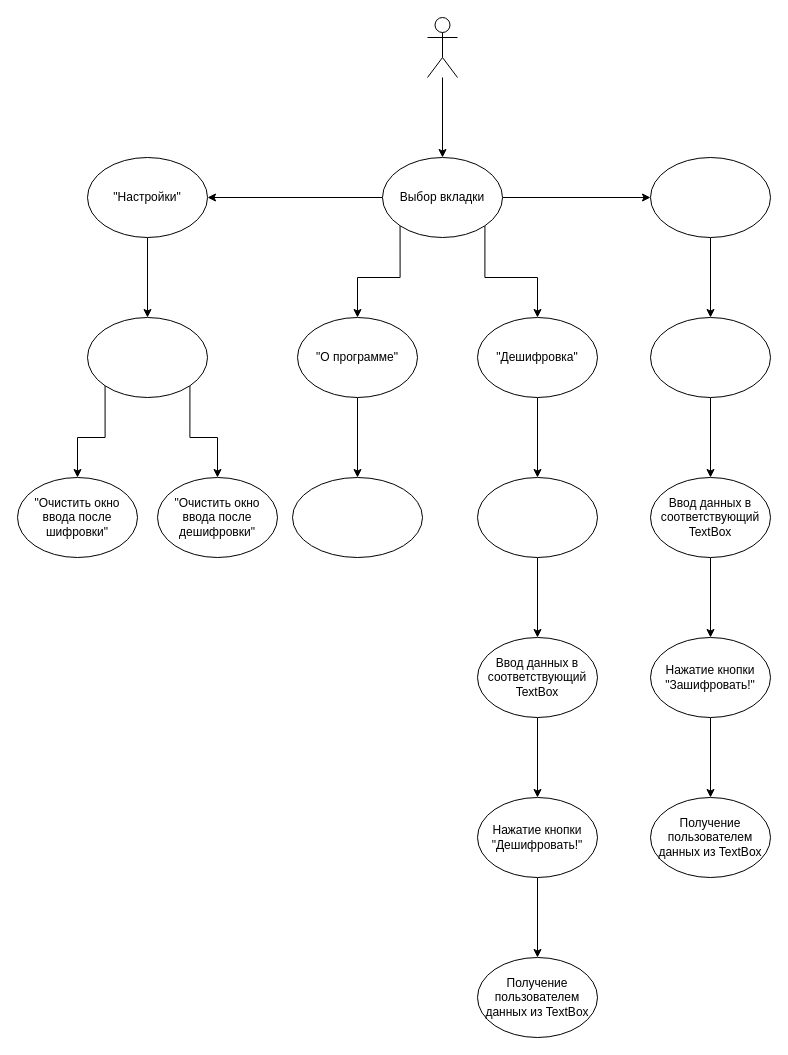
This 788x1055 diagram has some shape labels left out. Here are the shapes that lost their labels. From the top down, the centre of each, then its label:
point (442, 47): Пользователь
point (710, 197): "Шифровка"
point (147, 357): Выбор активируемых опций
point (710, 357): Выбор способа шифровки
point (357, 517): Просмотр информации о способах шифровки
point (537, 517): Выбор способа дешифровки
